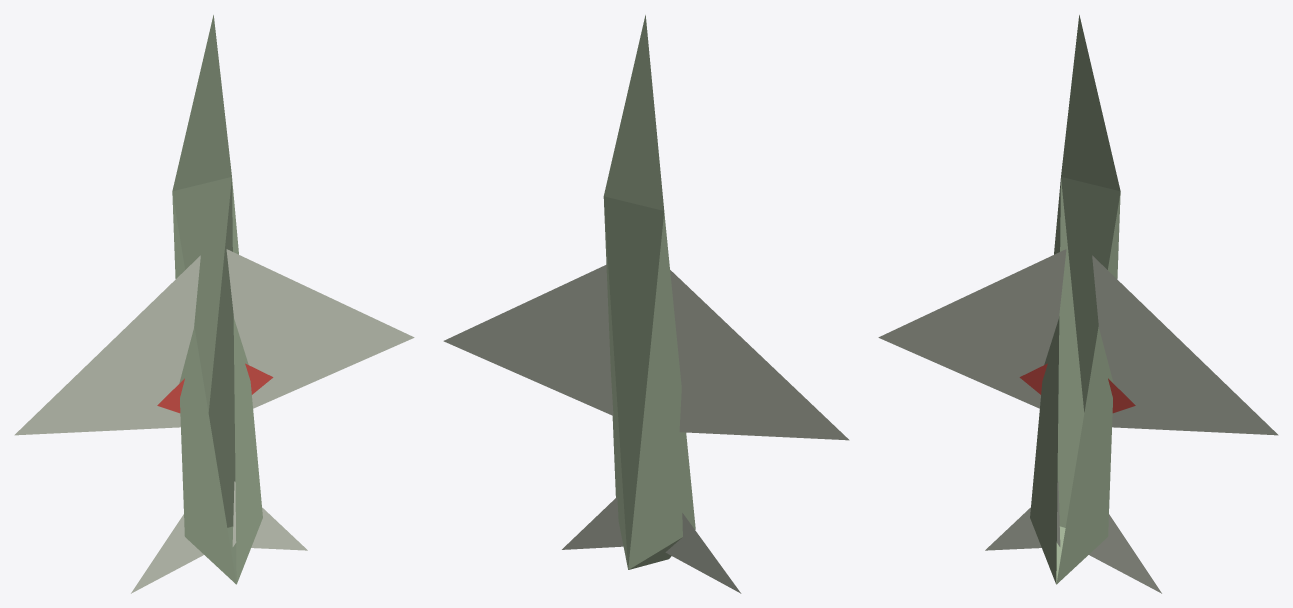
The model's file is shape_009_SVN_Custom_Aircraft_009.glb.
3 views of the same model, side by side, from view 1: azimuth 30°, elevation 25°; view 2: azimuth 150°, elevation 25°; view 3: azimuth 330°, elevation 25° (orthographic).
Parts seen in each view (by area): view 1: shape_009_SVN_Custom_Aircraft_009; view 2: shape_009_SVN_Custom_Aircraft_009; view 3: shape_009_SVN_Custom_Aircraft_009.
Part boxes in pixels (<box>): shape_009_SVN_Custom_Aircraft_009: <box>14,15,414,593</box>; shape_009_SVN_Custom_Aircraft_009: <box>443,15,849,593</box>; shape_009_SVN_Custom_Aircraft_009: <box>878,15,1278,593</box>.
Bounding box in the file's own units: 35.33 × 46.67 × 6.14.
